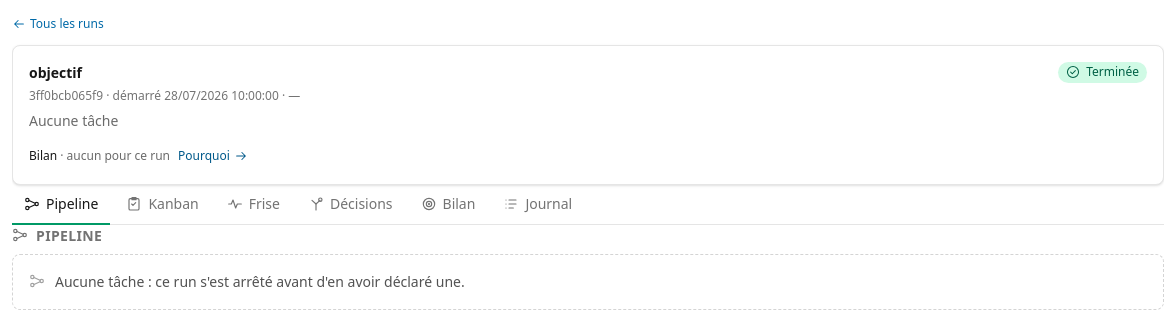
le journal d'un run › part du journal persisté, et non du fil ouvert à l'instant
This screenshot has width=1176, height=327.
Click the button "Journal". click: (538, 205)
box: [491,185,584,225]
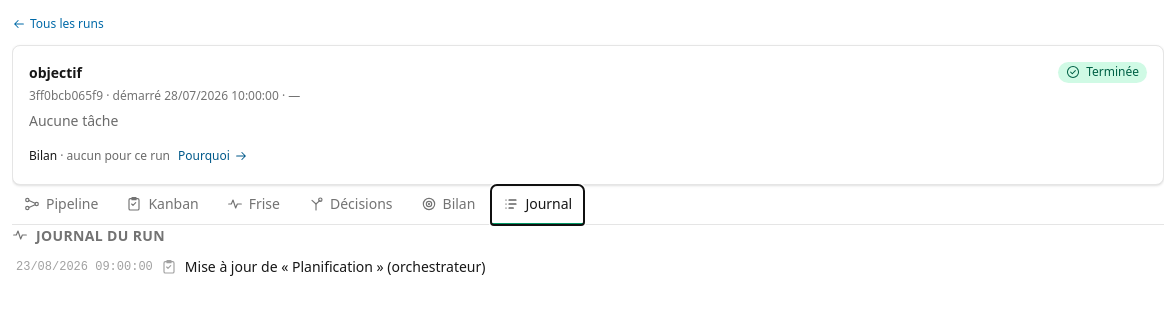
Now the text "Mise à jour de « Planification » (orchestrateur)" is shown, box [185,257,486,276]
